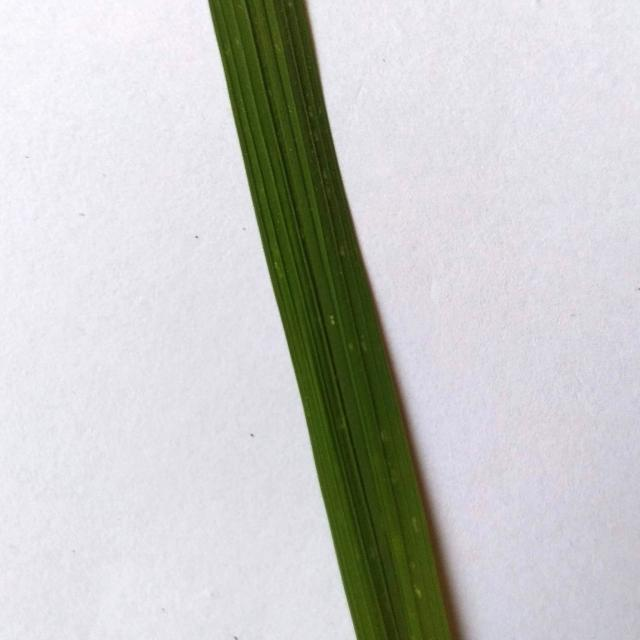Rice_Healthy: (209, 0, 452, 640)
